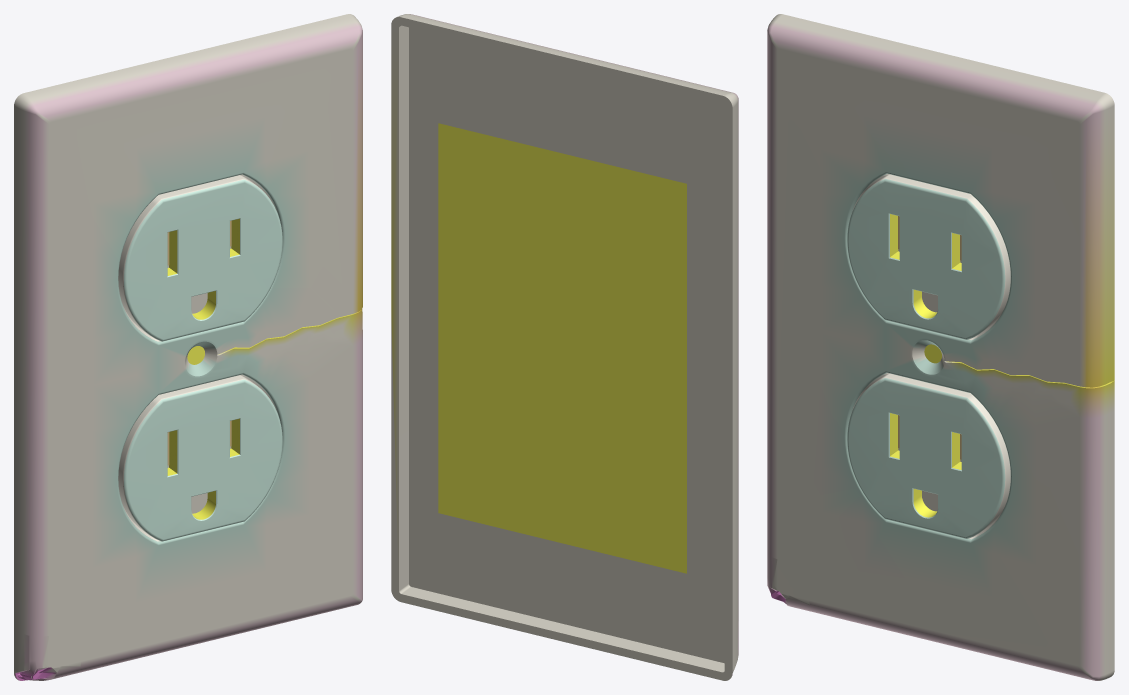
Rendered from Kit_OutletDuplex_Cracked.fbx.
3 renders of one model, left to right at view 1: azimuth 30°, elevation 25°; view 2: azimuth 150°, elevation 25°; view 3: azimuth 330°, elevation 25°, orthographic.
Visible parts, largest first — view 1: Kit_OutletDuplex_Cracked_LOD0; view 2: Kit_OutletDuplex_Cracked_LOD0; view 3: Kit_OutletDuplex_Cracked_LOD0.
Part boxes in pixels (x1=…): Kit_OutletDuplex_Cracked_LOD0: x1=14, y1=14, x2=362, y2=680; Kit_OutletDuplex_Cracked_LOD0: x1=391, y1=14, x2=738, y2=680; Kit_OutletDuplex_Cracked_LOD0: x1=767, y1=14, x2=1114, y2=680.
Size of what is drawn, in the model's own units: 0.0698 by 0.1143 by 0.0066.
